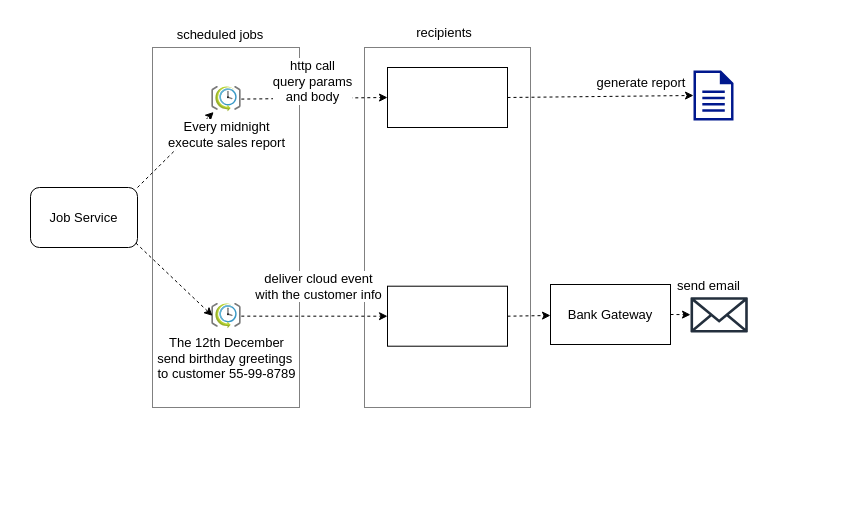
Image size: 859x515. Some labels were removed from this diagram. The centre of each missing label's shape, as x and y in pixels:
Knative Eventing Broker: the point at 447,315
Reports server: the point at 447,97
